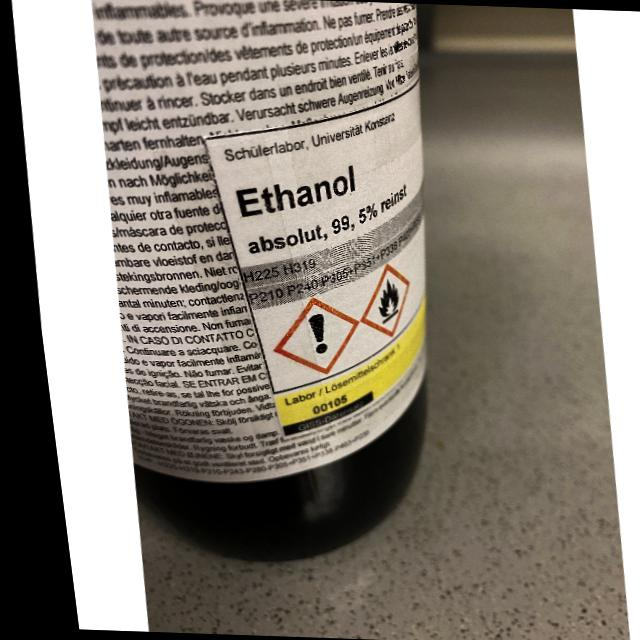flammable: (367, 278, 394, 324)
health-ozone layer hazard: (298, 314, 319, 354)
